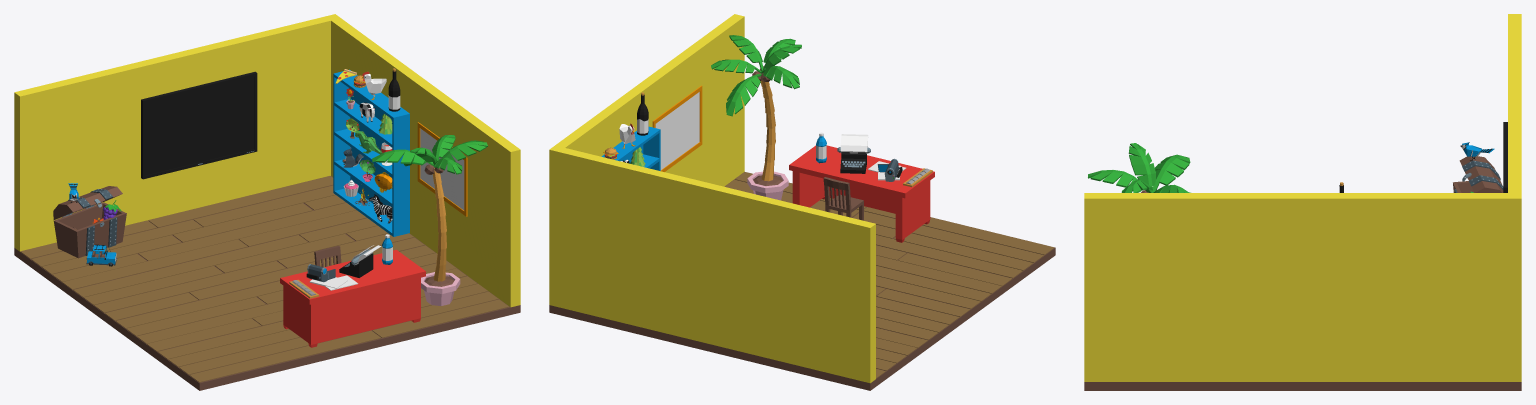
The model's file is epElsuhDoKg.glb.
The picture shows the model from 3 angles, left to right: view 1: azimuth 30°, elevation 25°; view 2: azimuth 150°, elevation 25°; view 3: azimuth 270°, elevation 25°; orthographic projection. The views are drawn at different scales.
Visible parts, largest first — view 1: campfire_01_Plane.003, Cube.024, Circle.005, Circle, flower_01_Cube.000, Cube.005, Plane.002_Plane.009, Cylinder, Cube.036_Cube.037, pine_tree_01_Circle, Plane.003_Plane.008, Circle.002; view 2: campfire_01_Plane.003, Cube.024, flower_01_Cube.000, Circle, Circle.005, Plane.002_Plane.009, Cylinder, Plane.003_Plane.008; view 3: campfire_01_Plane.003, flower_01_Cube.000, Circle.005, Cube.005.
Part boxes in pixels (box(x1,y1,x2,y2)): campfire_01_Plane.003: box(14, 14, 520, 307); Cube.024: box(20, 176, 508, 382); Circle.005: box(62, 69, 487, 282); Circle: box(280, 249, 425, 347); flower_01_Cube.000: box(14, 75, 520, 390); Cube.005: box(53, 186, 126, 258); Plane.002_Plane.009: box(92, 81, 467, 260); Cylinder: box(289, 68, 446, 298); Cube.036_Cube.037: box(69, 74, 392, 223); pine_tree_01_Circle: box(346, 81, 392, 173); Plane.003_Plane.008: box(309, 245, 381, 290); Circle.002: box(87, 237, 392, 264); campfire_01_Plane.003: box(549, 14, 875, 383); Cube.024: box(724, 172, 1054, 378); flower_01_Cube.000: box(549, 66, 1055, 390); Circle: box(789, 145, 934, 242); Circle.005: box(601, 35, 902, 181); Plane.002_Plane.009: box(603, 85, 826, 171); Cylinder: box(604, 80, 932, 187); Plane.003_Plane.008: box(840, 134, 906, 180); campfire_01_Plane.003: box(1084, 14, 1521, 381); flower_01_Cube.000: box(1084, 190, 1521, 390); Circle.005: box(1088, 122, 1507, 192); Cube.005: box(1453, 156, 1503, 192).
Size of the model in its own units: 2 by 1 by 2.
